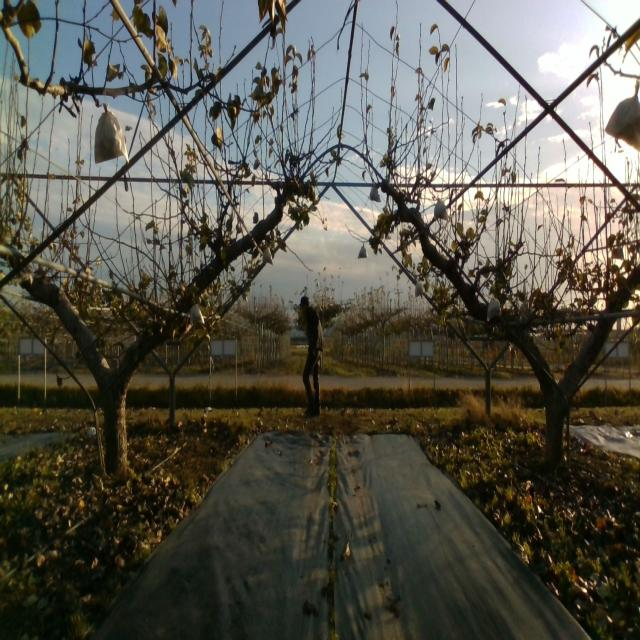pearbags: (300, 296, 324, 420), (605, 78, 640, 151), (94, 103, 130, 166), (486, 293, 502, 323), (434, 196, 449, 221), (190, 305, 204, 328), (369, 186, 381, 203), (414, 279, 424, 298)
